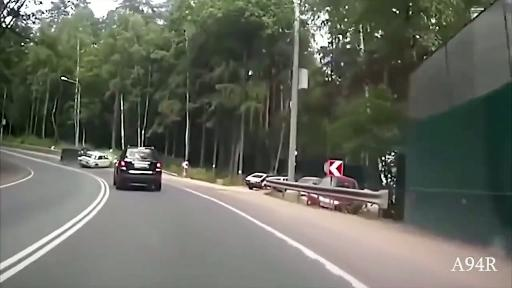Accident: (66, 124, 117, 199)
CAR: (114, 144, 166, 192), (322, 172, 368, 210), (277, 164, 317, 200), (240, 150, 265, 194)
